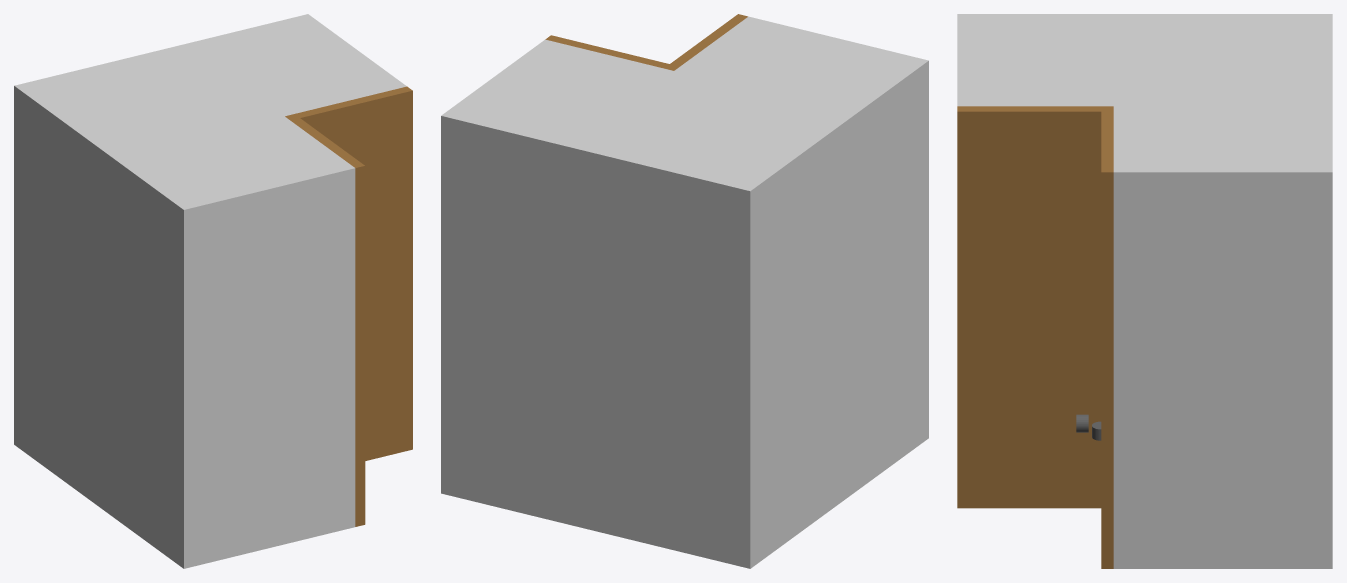
Rendered from upper_corner_cabinet_l_v1.glb.
3 views of the same model, side by side, from view 1: azimuth 30°, elevation 25°; view 2: azimuth 150°, elevation 25°; view 3: azimuth 270°, elevation 25° (orthographic). The views are drawn at different scales.
Parts seen in each view (by area): view 1: world; view 2: world; view 3: world.
Part boxes in pixels (x1,y1,x2,y2): world: [14, 14, 412, 568]; world: [441, 14, 928, 568]; world: [957, 14, 1332, 568].
Size of the model in its own units: 60 by 70 by 60.
